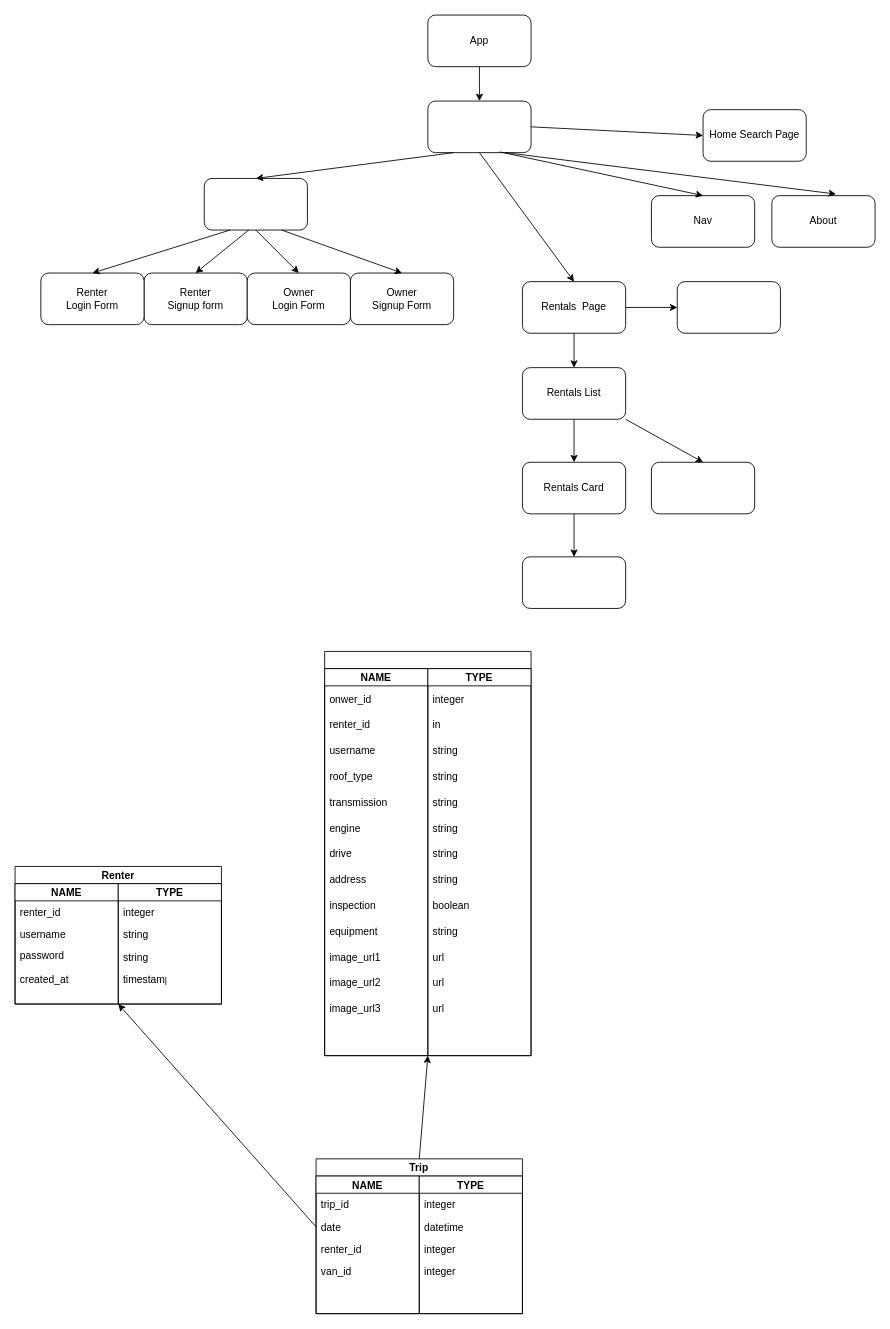
The diagram is 890 pixels wide and 1329 high, and some of its shapes have lost their labels. Here are the shapes that lost their labels. From the top down, the box of each, then its label:
(427, 100, 531, 153): Home
(203, 178, 307, 230): Login Splash
(676, 281, 780, 333): Trips
(651, 461, 755, 514): Add Rental
(522, 556, 626, 608): Rent a Van
(324, 651, 531, 1056): Vanagon
